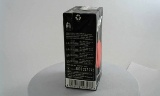appy: (57, 4, 97, 91)
